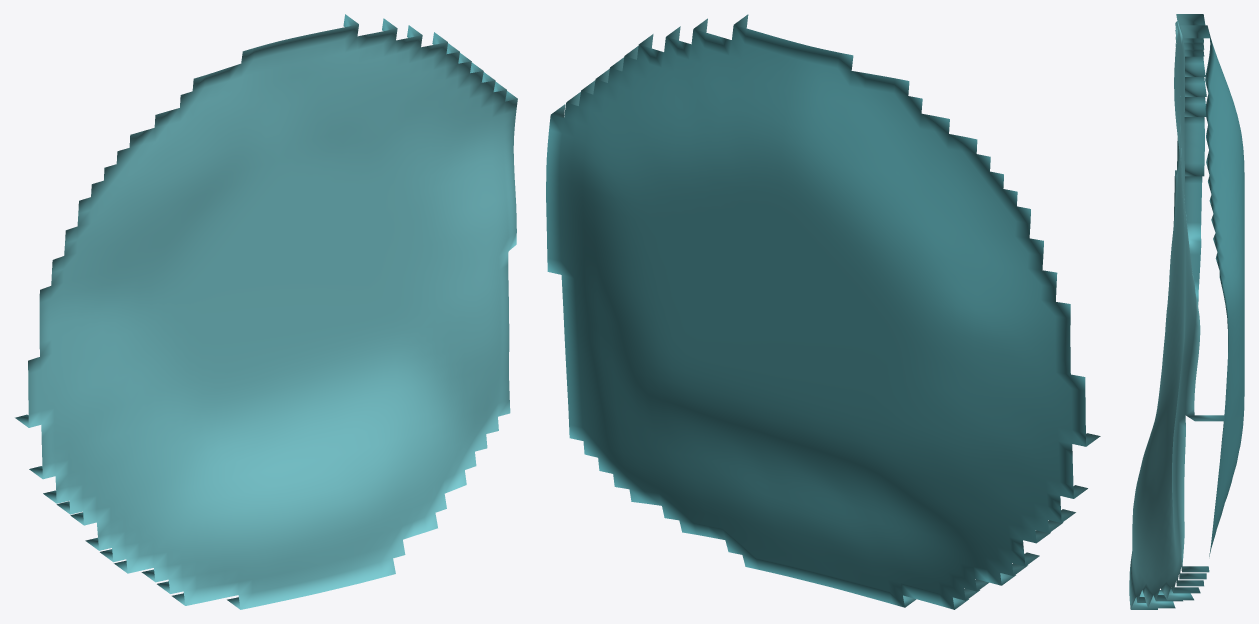
The model's file is PAIR-OFFLOAD-1ST_LEFT_addon.glb.
The picture shows the model from 3 angles, left to right: view 1: azimuth 30°, elevation 25°; view 2: azimuth 150°, elevation 25°; view 3: azimuth 270°, elevation 25°; orthographic projection. The views are drawn at different scales.
Visible parts, largest first — view 1: world; view 2: world; view 3: world.
Boxes of the visible parts, x1,y1,x2,y2 form: world: (15, 14, 517, 609); world: (546, 14, 1100, 609); world: (1129, 14, 1244, 609).
Bounding box in the file's own units: 39 × 40 × 7.99.
